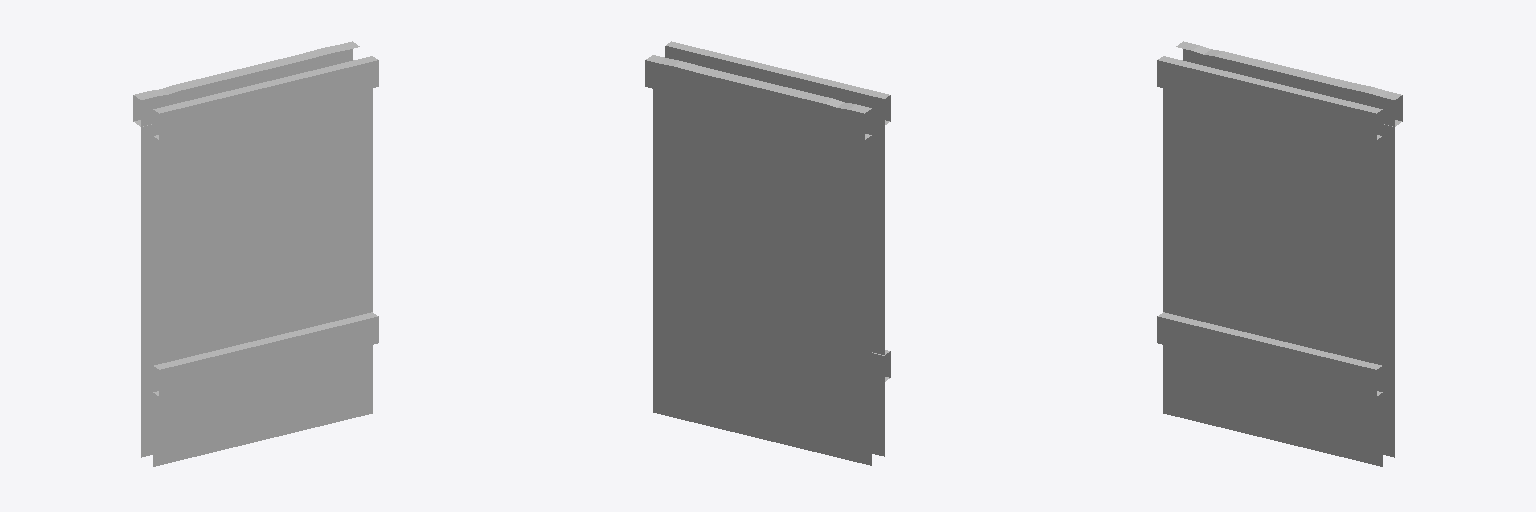
Rendered from Wall_Plaster_Straight_Base.obj.
3 views of the same model, side by side, from view 1: azimuth 30°, elevation 25°; view 2: azimuth 150°, elevation 25°; view 3: azimuth 330°, elevation 25° (orthographic).
Parts seen in each view (by area): view 1: Wall_Plaster_Straight_Base; view 2: Wall_Plaster_Straight_Base; view 3: Wall_Plaster_Straight_Base.
Part boxes in pixels (left/top/right/bottom): Wall_Plaster_Straight_Base: left=133, top=41, right=378, bottom=466; Wall_Plaster_Straight_Base: left=645, top=41, right=890, bottom=465; Wall_Plaster_Straight_Base: left=1157, top=41, right=1402, bottom=466.
Bounding box in the file's own units: 2 × 3.12 × 0.4065.